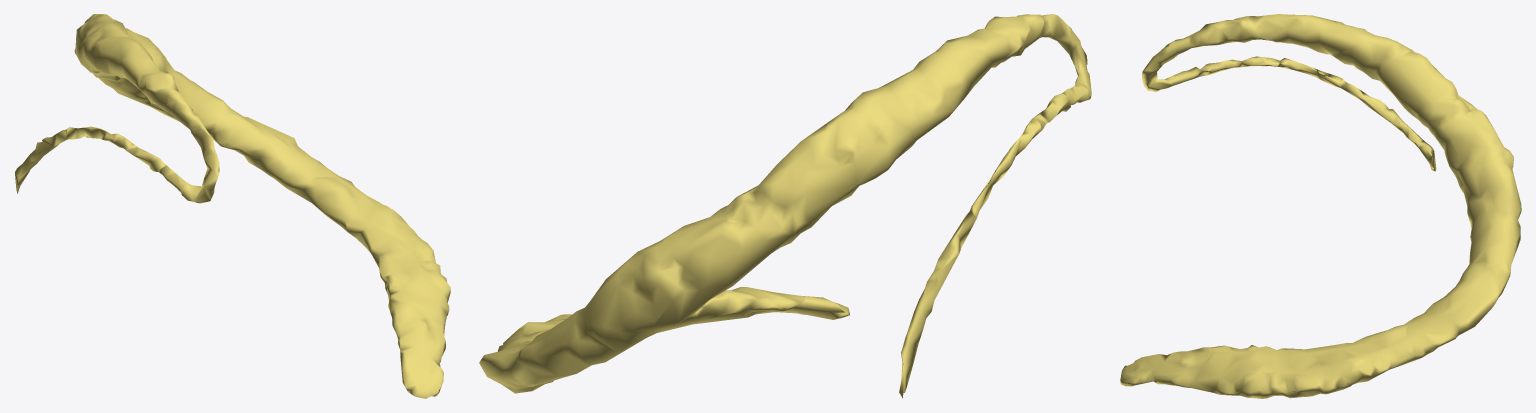
File: choroid-plexus-l.glb
3 renders of one model, left to right at view 1: azimuth 30°, elevation 25°; view 2: azimuth 150°, elevation 25°; view 3: azimuth 270°, elevation 25°, orthographic. The views are drawn at different scales.
Parts seen in each view (by area): view 1: Choroid plexus.l; view 2: Choroid plexus.l; view 3: Choroid plexus.l.
Part boxes in pixels (box(x1,y1,x2,y2)): Choroid plexus.l: box(15, 14, 450, 398); Choroid plexus.l: box(479, 14, 1091, 398); Choroid plexus.l: box(1120, 14, 1521, 398).
Bounding box in the file's own units: 0.0363 × 0.0329 × 0.0421.
